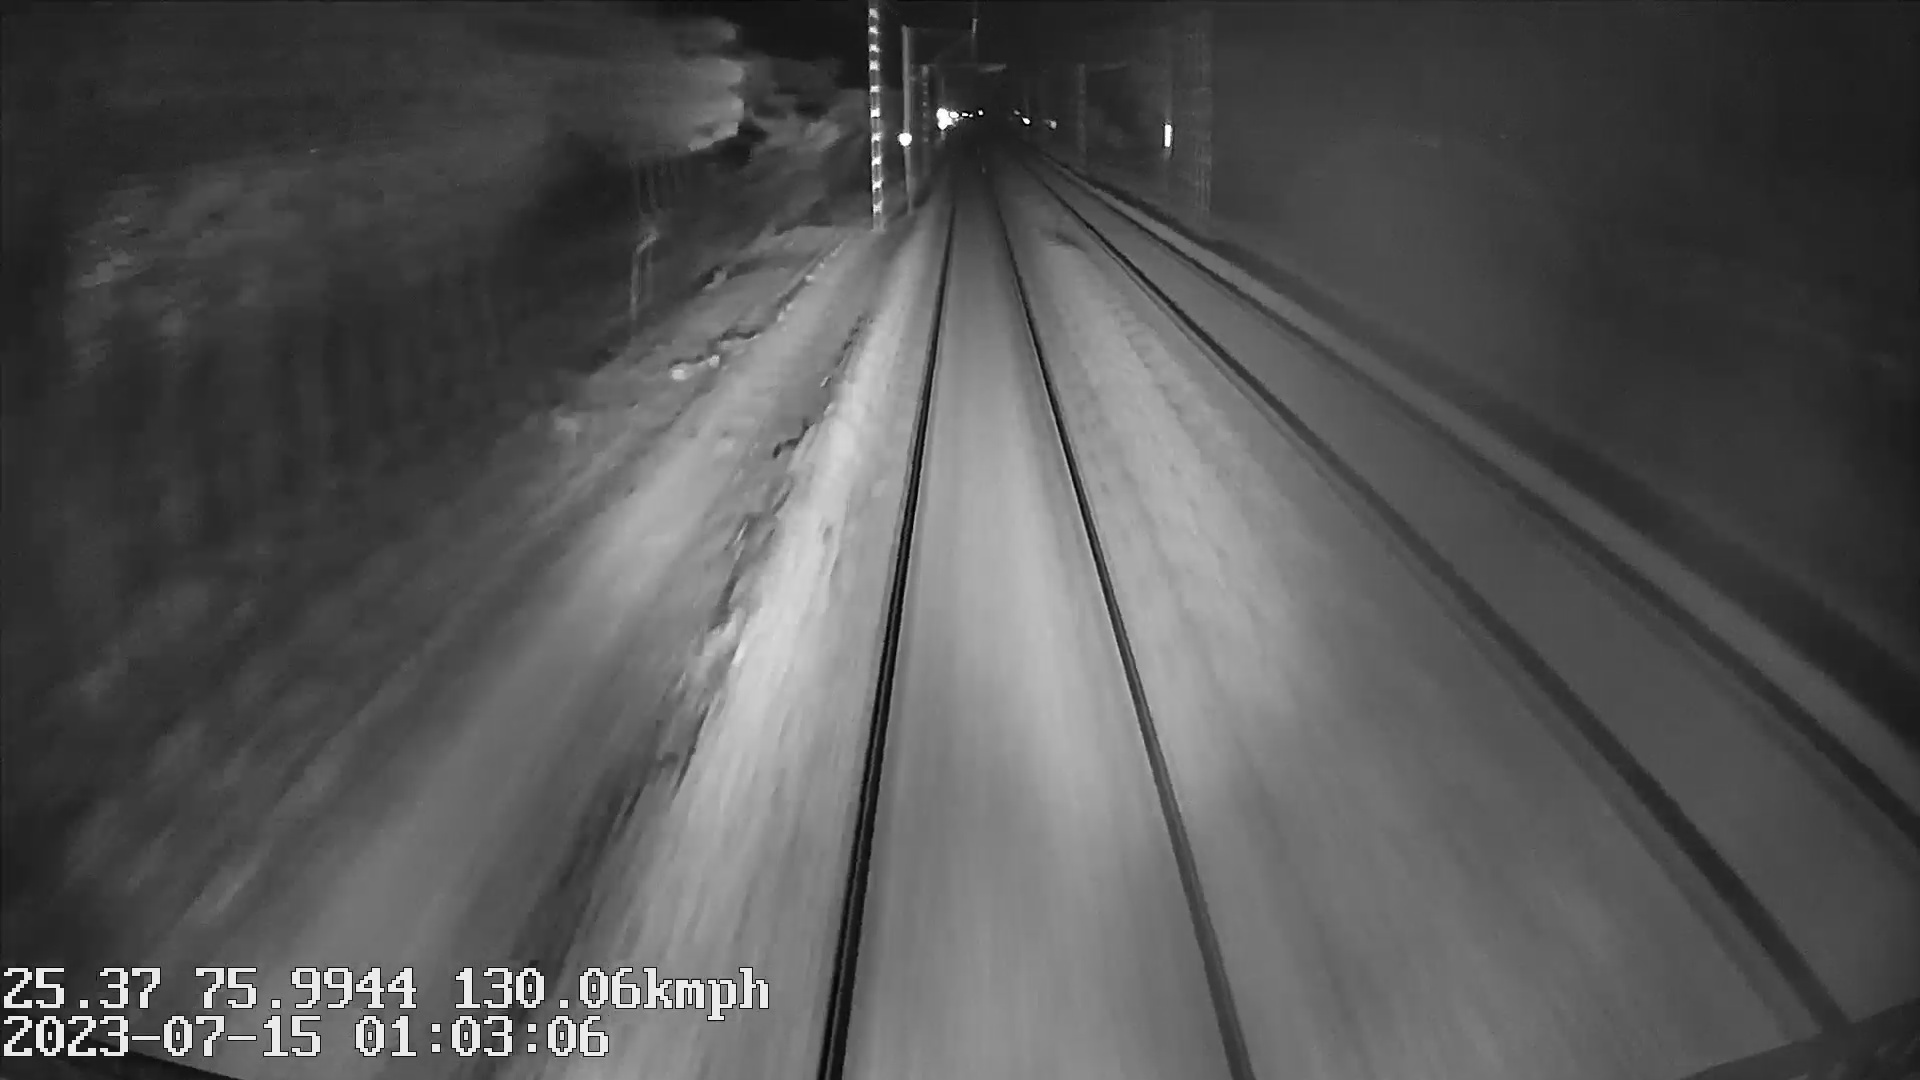track1: (835, 186, 1242, 1056)
track2: (1042, 178, 1911, 997)
